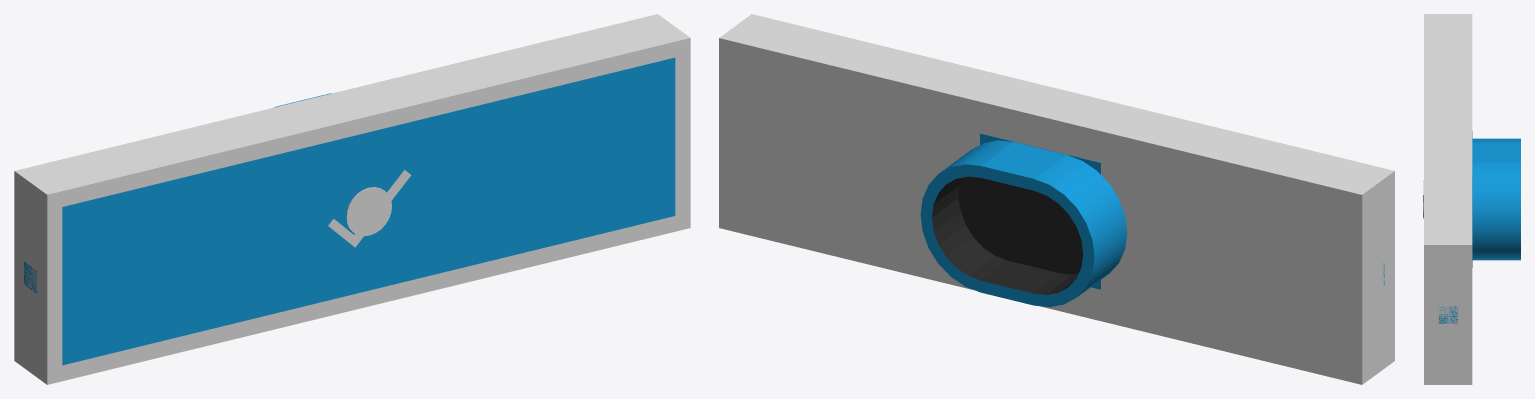
The model's file is Buttons.FBX.
The picture shows the model from 3 angles, left to right: view 1: azimuth 30°, elevation 25°; view 2: azimuth 150°, elevation 25°; view 3: azimuth 270°, elevation 25°; orthographic projection. The views are drawn at different scales.
Visible parts, largest first — view 1: Button, ButtonOutline, ToggleDot, CheckBoxCheck, RadialDot; view 2: ButtonOutline, ToggleOutline; view 3: ButtonOutline, ToggleOutline, SliderFill, CheckBoxOutline.
Part boxes in pixels (box(x1,y1,x2,y2)): Button: box(62, 57, 675, 365); ButtonOutline: box(14, 14, 690, 384); ToggleDot: box(346, 187, 391, 235); CheckBoxCheck: box(328, 170, 411, 247); RadialDot: box(346, 187, 391, 235); ButtonOutline: box(719, 14, 1394, 384); ToggleOutline: box(920, 140, 1127, 307); ButtonOutline: box(1424, 14, 1472, 384); ToggleOutline: box(1472, 138, 1520, 260); SliderFill: box(1438, 306, 1457, 323); CheckBoxOutline: box(1472, 131, 1472, 267).
Bounding box in the file's own units: 34 × 9.6 × 6.08.
